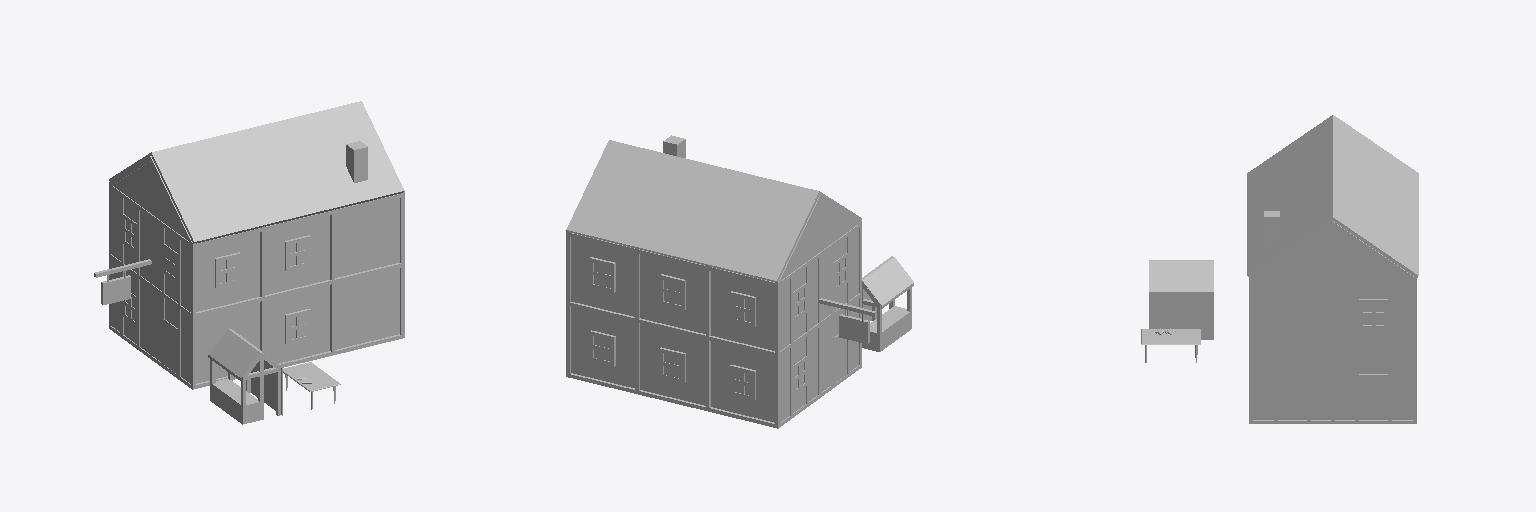
Rendered from timberframedclothier.obj.
3 renders of one model, left to right at view 1: azimuth 30°, elevation 25°; view 2: azimuth 150°, elevation 25°; view 3: azimuth 270°, elevation 25°, orthographic.
Parts seen in each view (by area): view 1: Cube.005, Cube.007_Cube.011, Cube.011_Cube.015, Table_Large_Rectangular_01_Circle.004, Cube.018_Cube.016, Cube.013_Cube.080, Cube.056_Cube.081, Cube.001_Cube.058, Cube.006_Cube.010, Cube.055_Cube.059, Cube.026_Cube.019, Cube.073_Cube.078 (+6 smaller); view 2: Cube.005, Cube.007_Cube.011, Cube.023_Cube.026, Cube.022_Cube.025, Cube.021_Cube.024, Cube.017_Cube.021, Cube.015_Cube.020, Cube.019_Cube.022, Cube.014_Cube.018, Cube.008, Cube.020_Cube.023, Cube.073_Cube.078 (+5 smaller); view 3: Cube.005, Cube.007_Cube.011, Cube.147_Cube.153, Cube.003, Table_Large_Rectangular_01_Circle.004, Cube.033, Cube.016_Cube.013, Cube.031, Cube.032, Cube.012_Cube.017, Cube.027, Cube.034 (+5 smaller).
Boxes of the visible parts, <box> form: Cube.005: <box>111,162,399,383</box>; Cube.007_Cube.011: <box>109,101,404,243</box>; Cube.011_Cube.015: <box>194,263,403,316</box>; Table_Large_Rectangular_01_Circle.004: <box>283,362,340,409</box>; Cube.018_Cube.016: <box>196,193,403,247</box>; Cube.013_Cube.080: <box>285,235,310,270</box>; Cube.056_Cube.081: <box>215,252,240,288</box>; Cube.001_Cube.058: <box>285,309,310,344</box>; Cube.006_Cube.010: <box>346,141,367,182</box>; Cube.055_Cube.059: <box>193,334,403,388</box>; Cube.026_Cube.019: <box>191,242,195,389</box>; Cube.073_Cube.078: <box>101,275,130,304</box>; Cube.005: <box>571,201,858,422</box>; Cube.007_Cube.011: <box>566,140,861,281</box>; Cube.023_Cube.026: <box>567,373,774,427</box>; Cube.022_Cube.025: <box>567,302,776,356</box>; Cube.021_Cube.024: <box>567,232,776,285</box>; Cube.017_Cube.021: <box>590,330,615,366</box>; Cube.015_Cube.020: <box>730,291,755,326</box>; Cube.019_Cube.022: <box>660,347,685,383</box>; Cube.014_Cube.018: <box>660,274,685,309</box>; Cube.008: <box>590,257,615,292</box>; Cube.020_Cube.023: <box>730,365,755,400</box>; Cube.073_Cube.078: <box>839,314,869,343</box>; Cube.005: <box>1253,227,1412,419</box>; Cube.007_Cube.011: <box>1247,115,1418,277</box>; Cube.147_Cube.153: <box>1149,292,1213,339</box>; Cube.003: <box>1359,378,1387,419</box>; Table_Large_Rectangular_01_Circle.004: <box>1141,329,1200,362</box>; Cube.033: <box>1359,299,1387,328</box>; Cube.016_Cube.013: <box>1252,349,1413,352</box>; Cube.031: <box>1252,420,1412,423</box>; Cube.032: <box>1252,279,1413,282</box>; Cube.012_Cube.017: <box>1249,277,1252,423</box>; Cube.027: <box>1413,277,1416,423</box>; Cube.034: <box>1331,279,1334,421</box>.
Bounding box in the file's own units: 15.3 × 11.25 × 13.72.